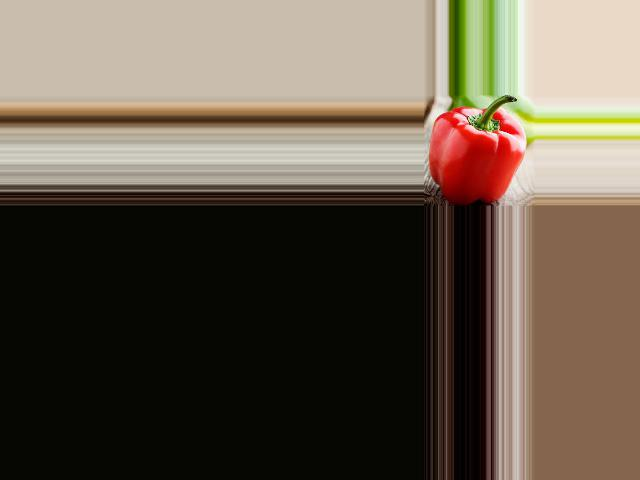bell_pepper: (431, 97, 528, 207)
